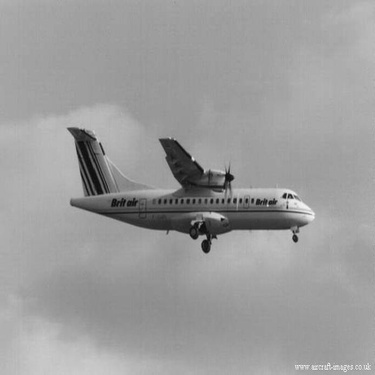airplane: (53, 117, 320, 260)
